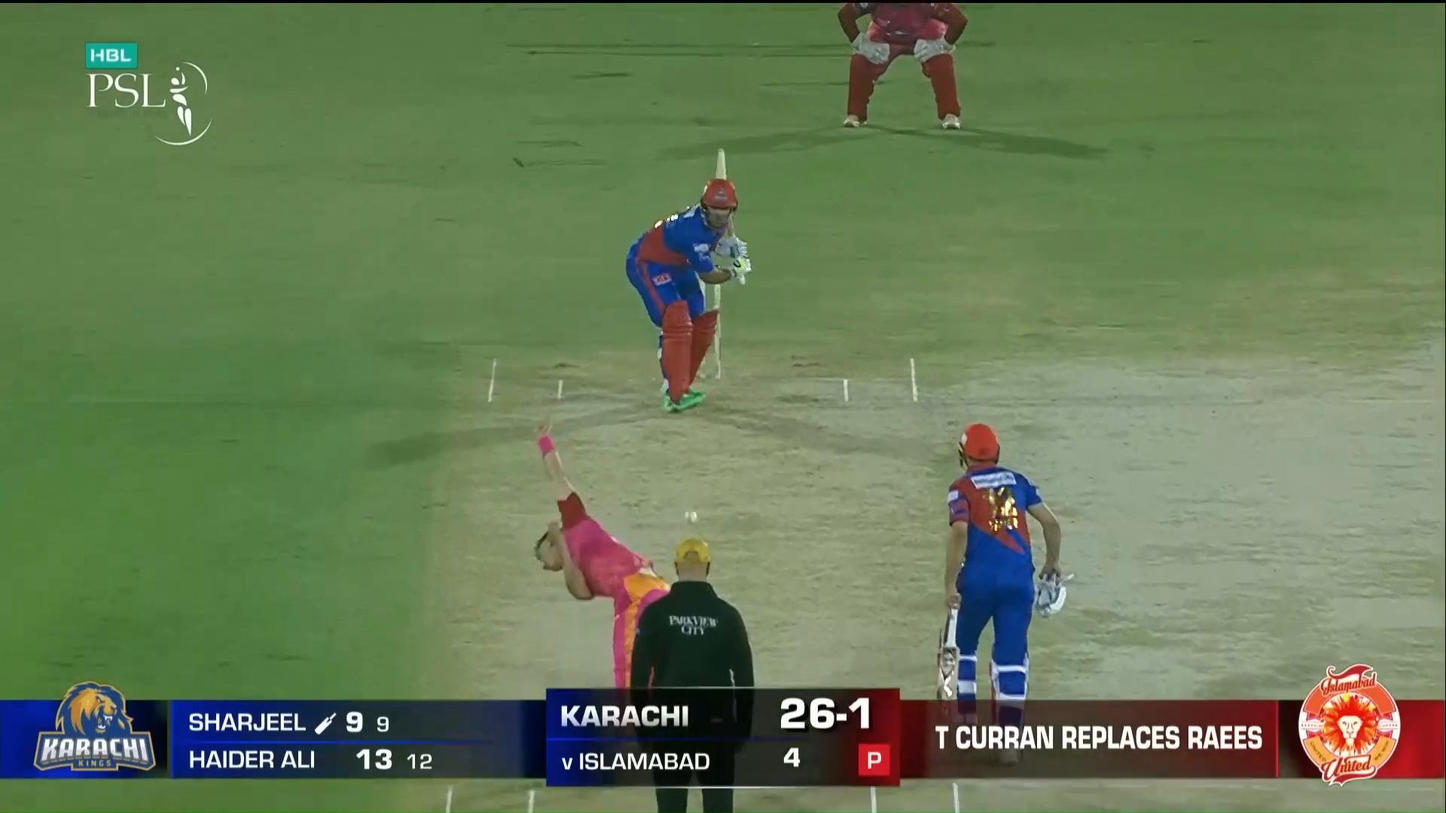batsman: (626, 148, 753, 414)
